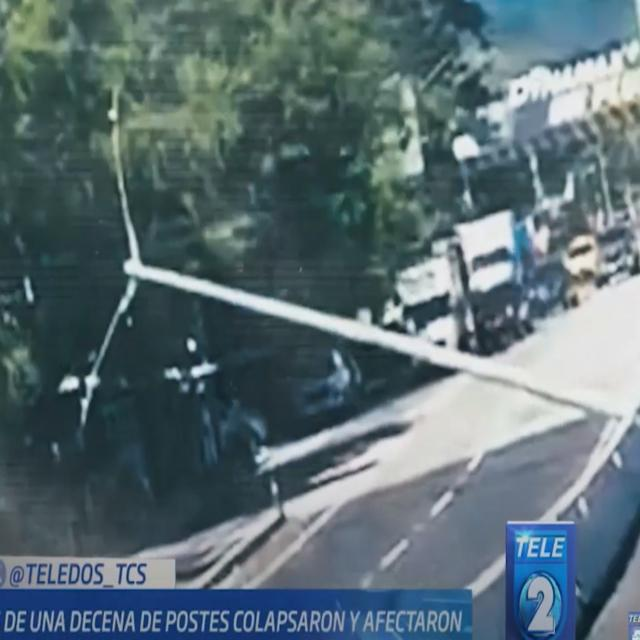Inclined Pole: (71, 85, 632, 435)
